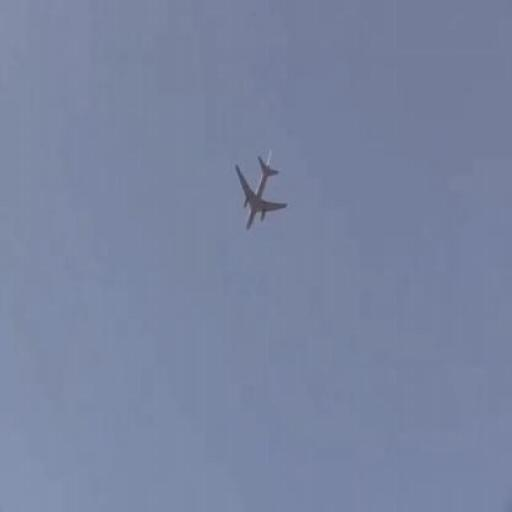aircraft: (235, 147, 288, 231)
